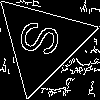S: (17, 17, 71, 63)
